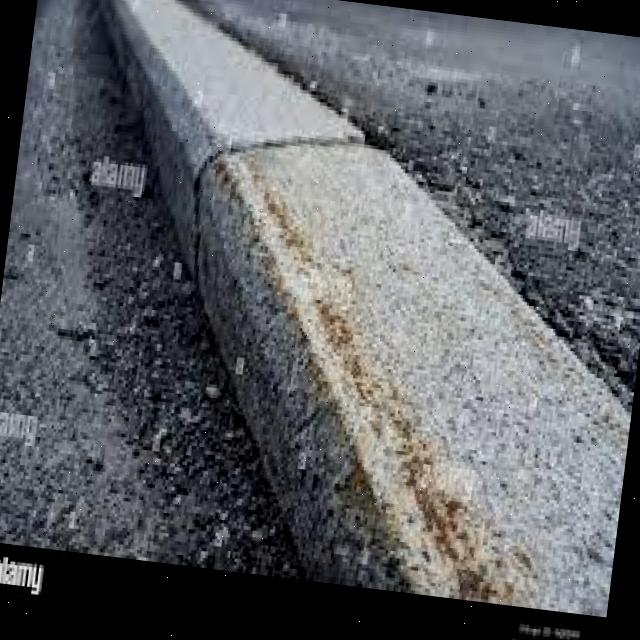curb: (195, 142, 631, 613), (101, 1, 366, 296)
